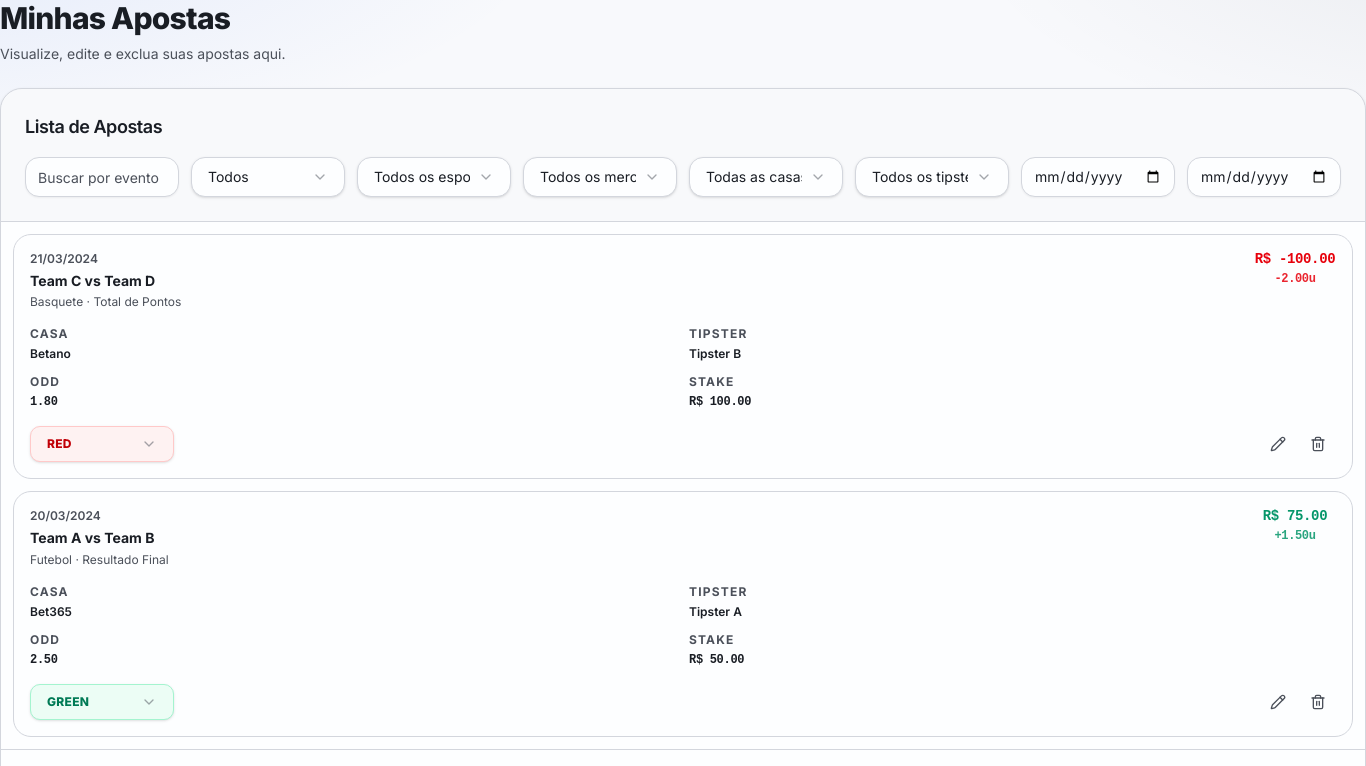
Test: Bets Integration Tests › filters bets by sport
The image size is (1366, 766).
Expected: the heading "Team A vs Team B" is shown, x1=30 y1=528 x2=169 y2=548
Click the dropdown labelled "esporte".
click(434, 177)  # box x1=357 y1=157 x2=511 y2=197
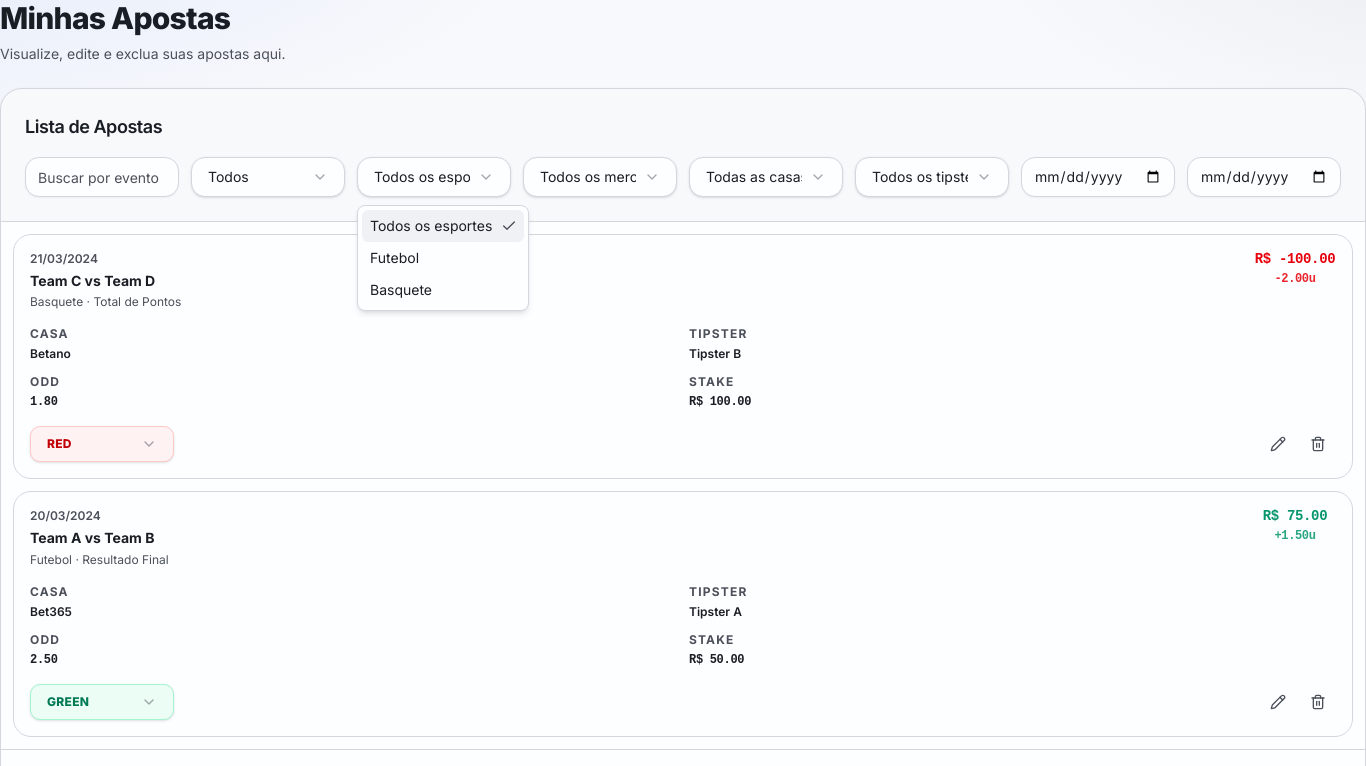
Click the option "Basquete".
click(401, 290)  # box x1=370 y1=281 x2=432 y2=298
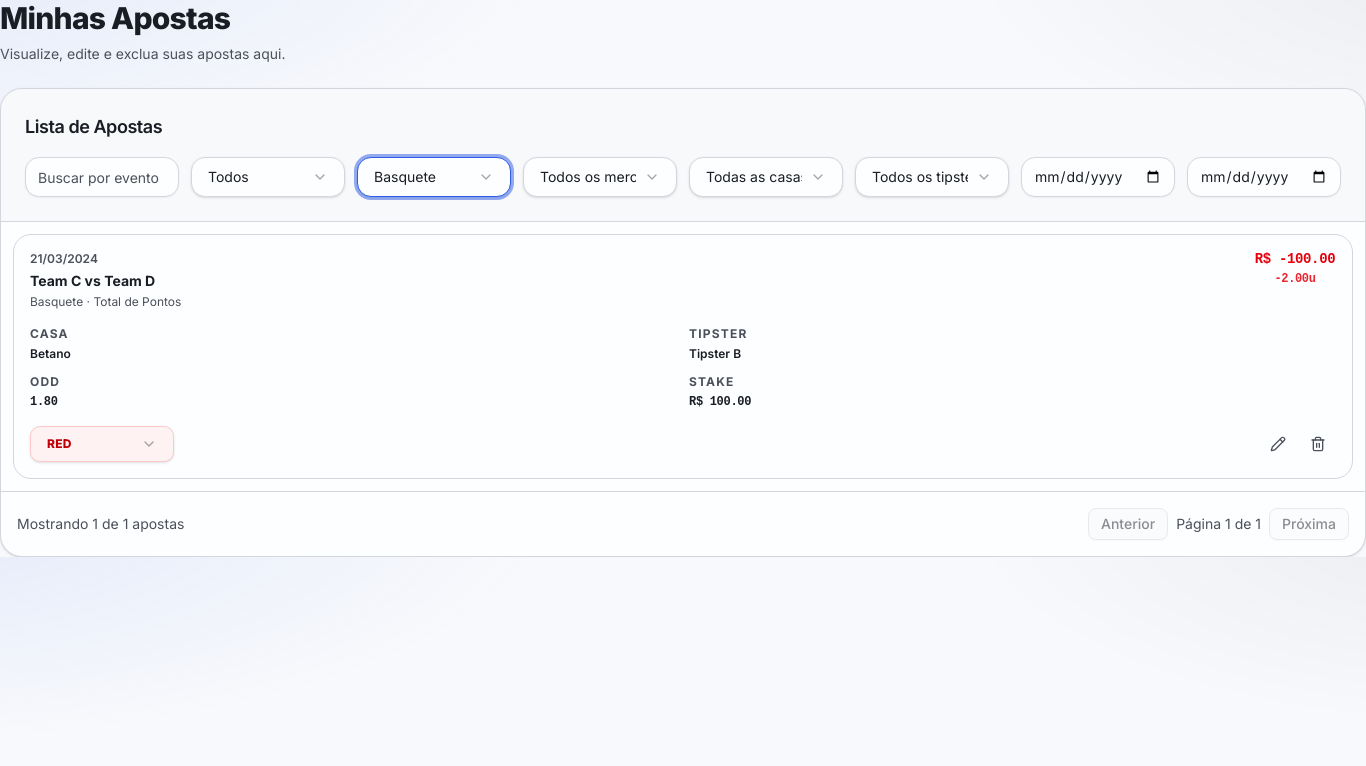
Expected: the heading "Team C vs Team D" is shown, x1=30 y1=272 x2=155 y2=289
Result: the heading "Team A vs Team B" is gone
